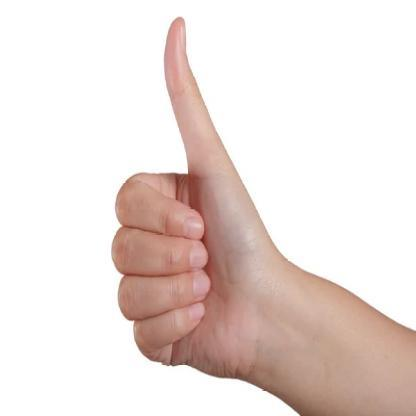thumb_up: (110, 16, 265, 380)
